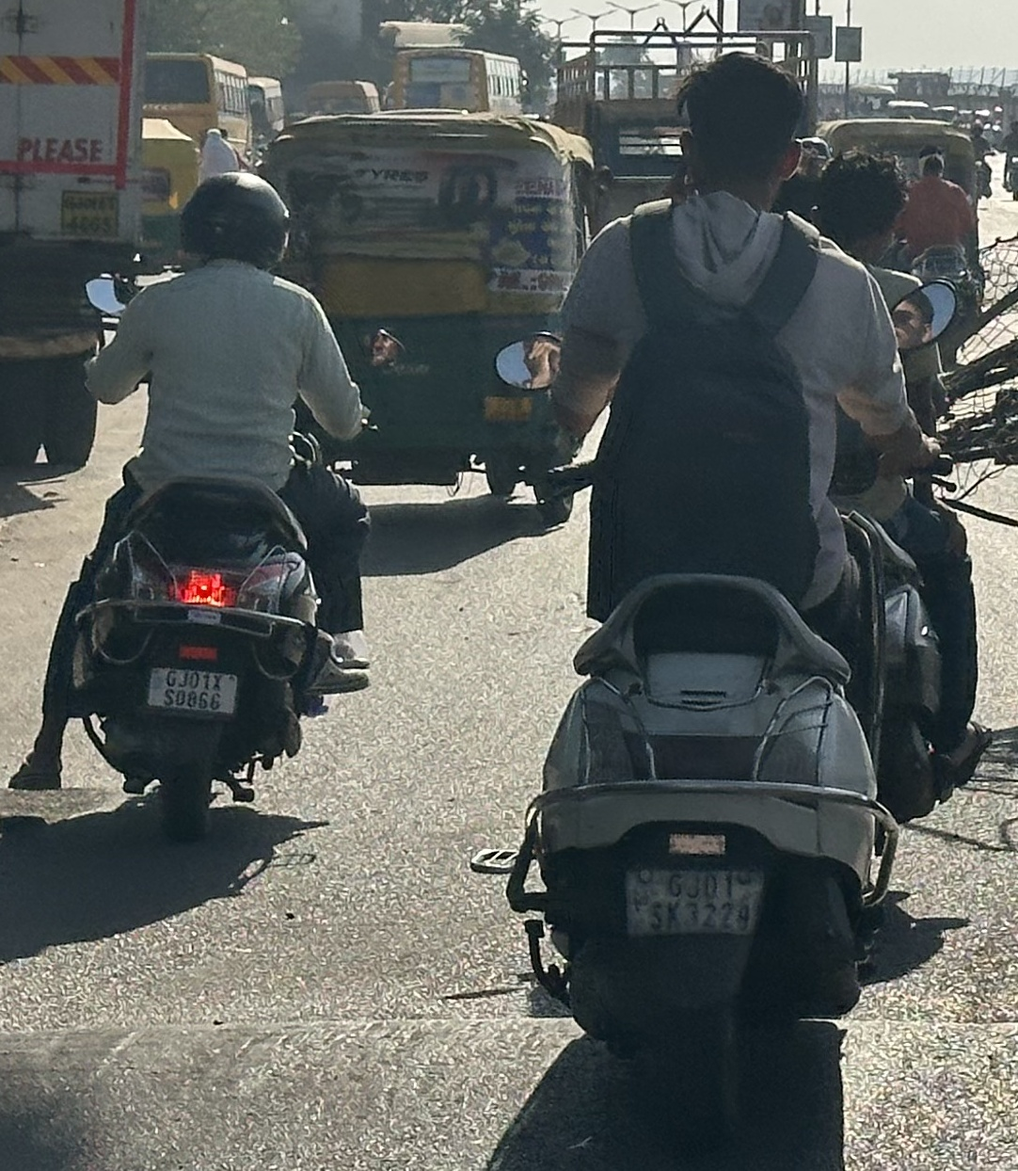BikeWithRider: (456, 40, 1001, 1164), (3, 159, 406, 854)
Helmet: (161, 160, 304, 287)
NoHelmet: (660, 43, 819, 222)
